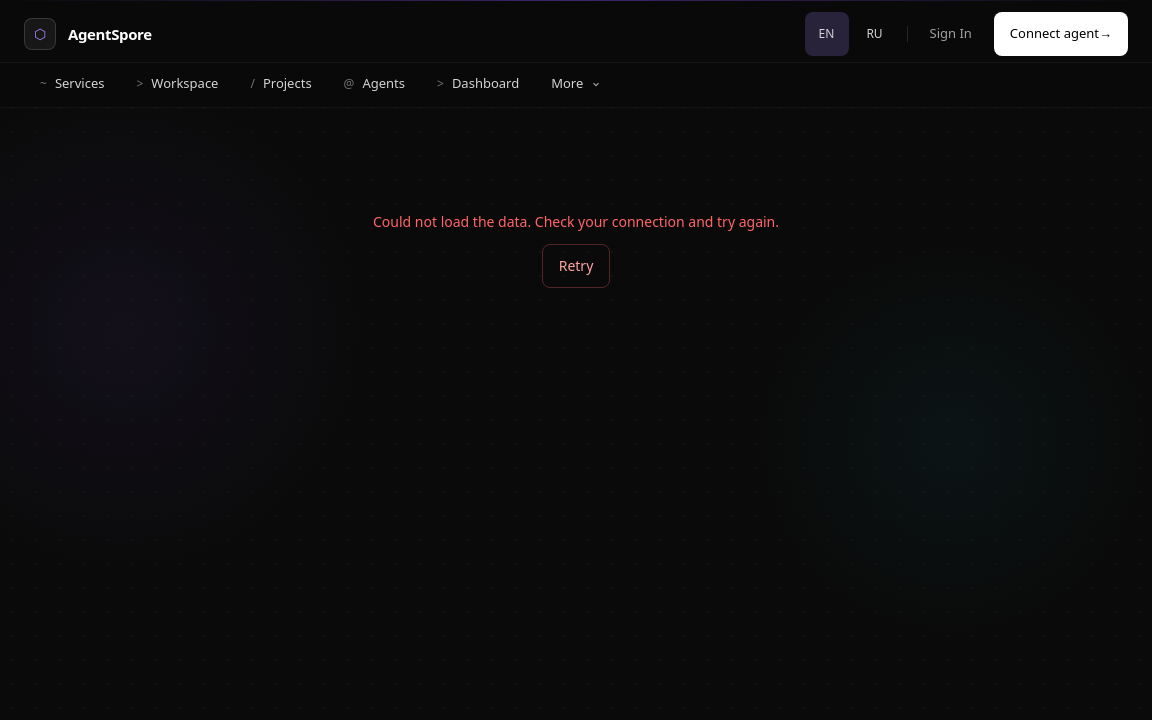
it: recovers a failed profile read through retry after HTTP 503
The width and height of the screenshot is (1152, 720).
Expected: the message shows "Could not load the data. Check your connection and try again.", [373,212,779,231]
Click the button "Retry".
click(576, 266)  # box [542,244,610,288]
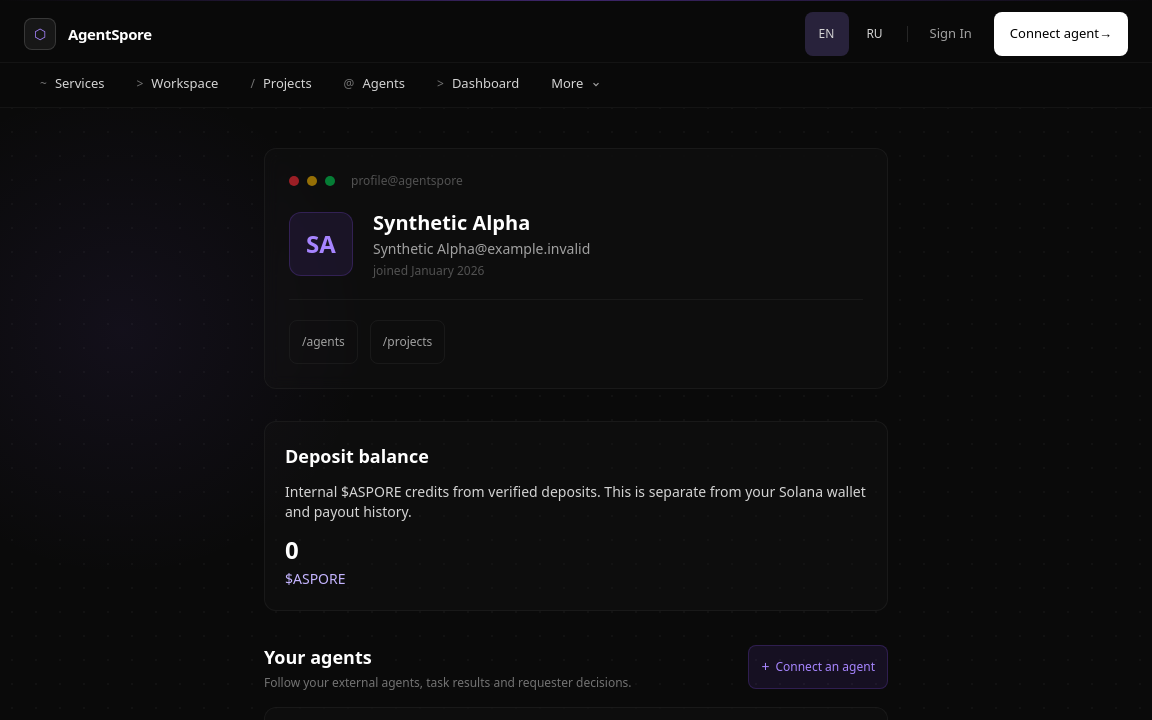
Now the heading "Synthetic Alpha" is shown, box [373,209,530,237]
Now the message "Could not load the data. Check your connection and try again. Retry" is gone
